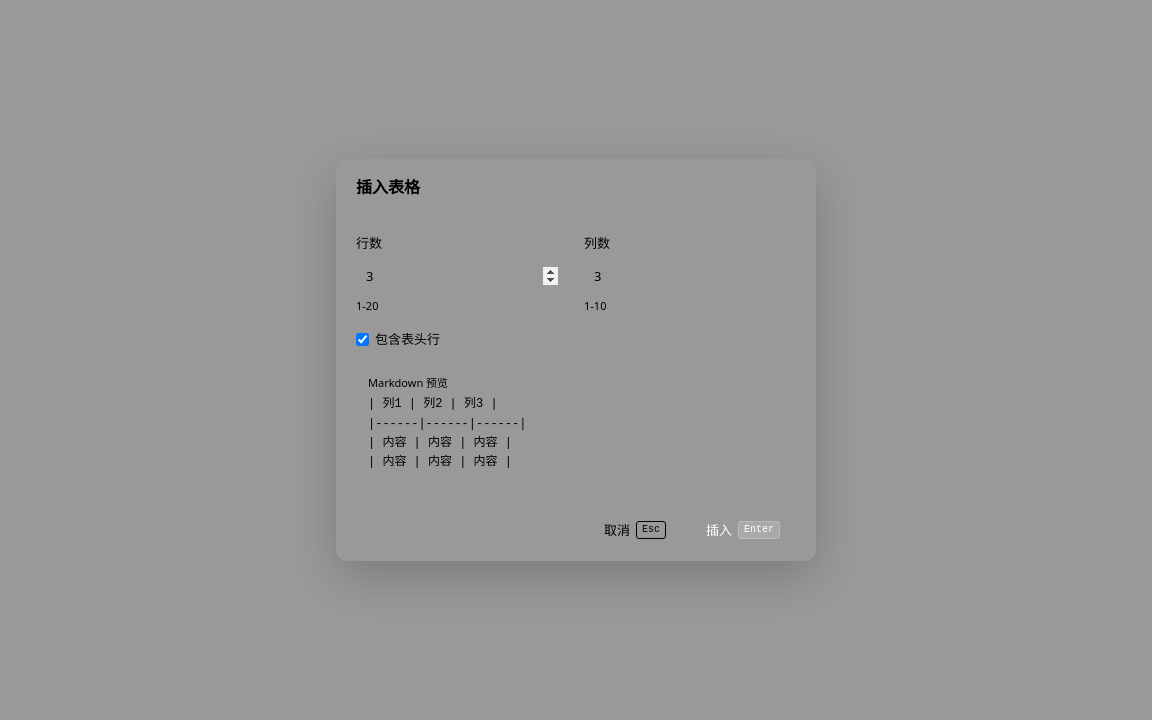
Test: <TableDialog /> › 列数超出 10 被 clamp
Replace the text in the number field below "列数" with "50" at (690, 276), box x1=584 y1=259 x2=796 y2=293
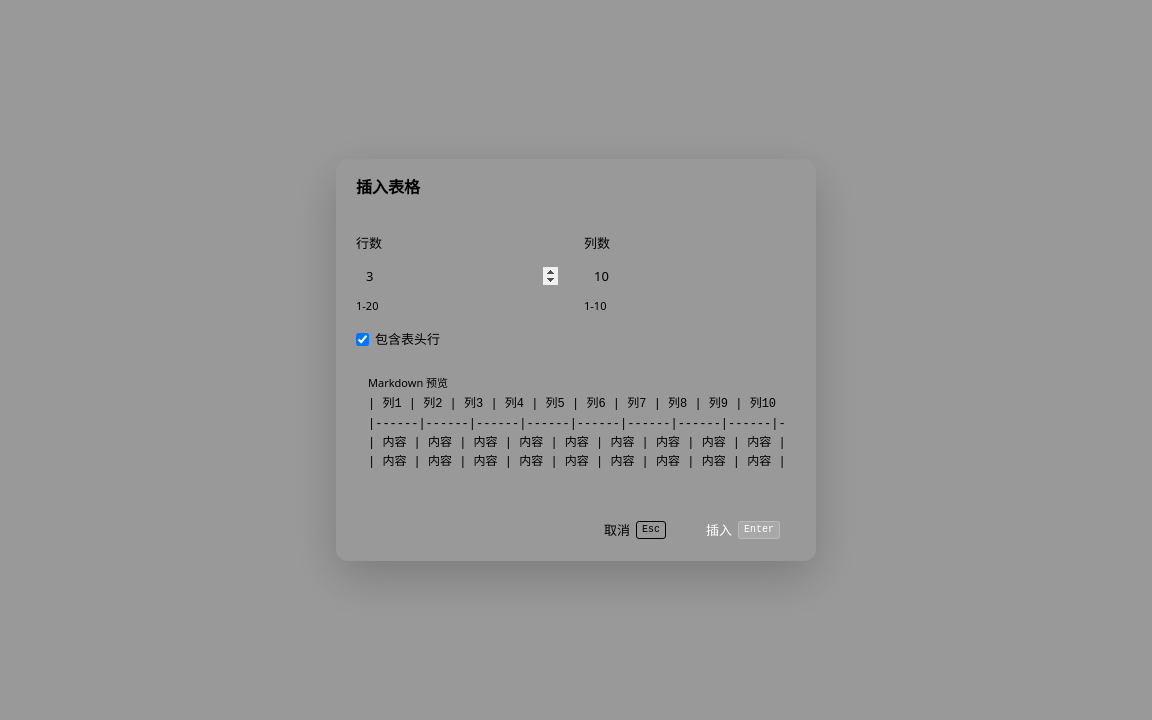
Expected: the number field below "列数" holds "10", x1=584 y1=259 x2=796 y2=293
